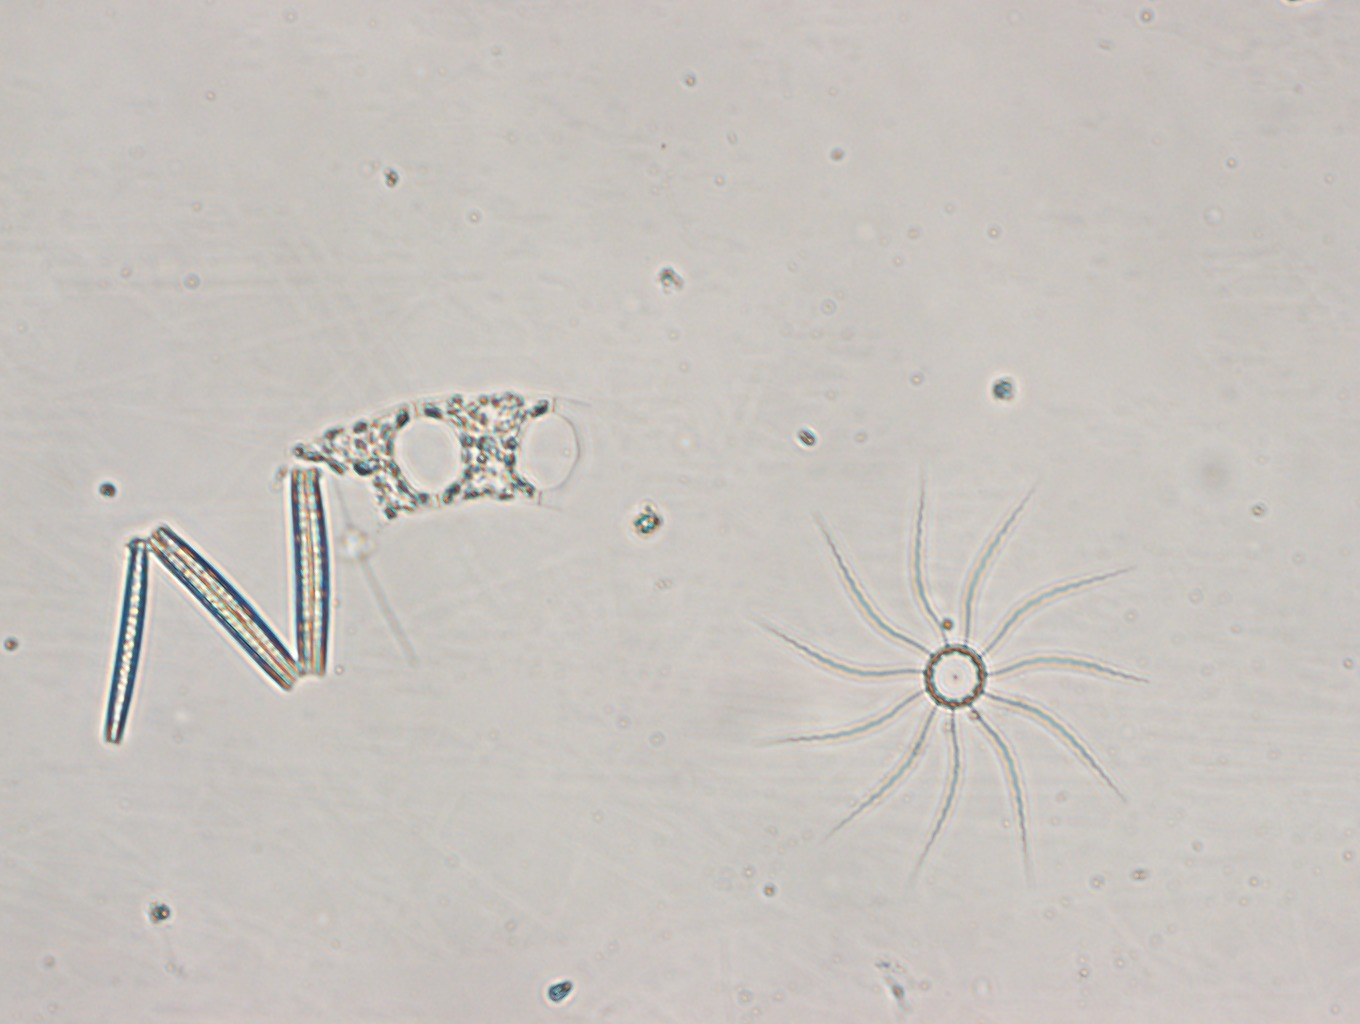bacteriastrum: (753, 477, 1147, 883)
eucampia: (280, 386, 593, 542)
thalassionema nitzschioides: (102, 464, 337, 744)
